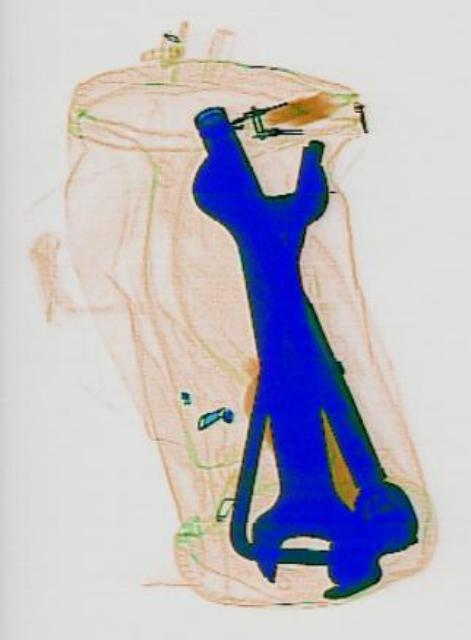Wrench: (186, 127, 377, 595)
